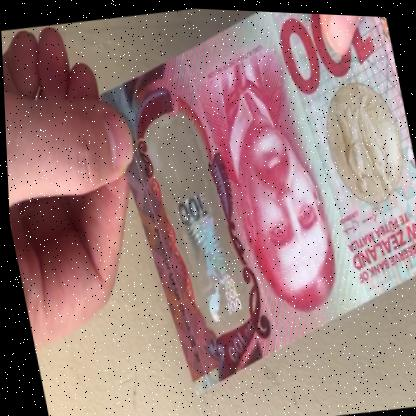100F: (147, 118, 244, 328)
